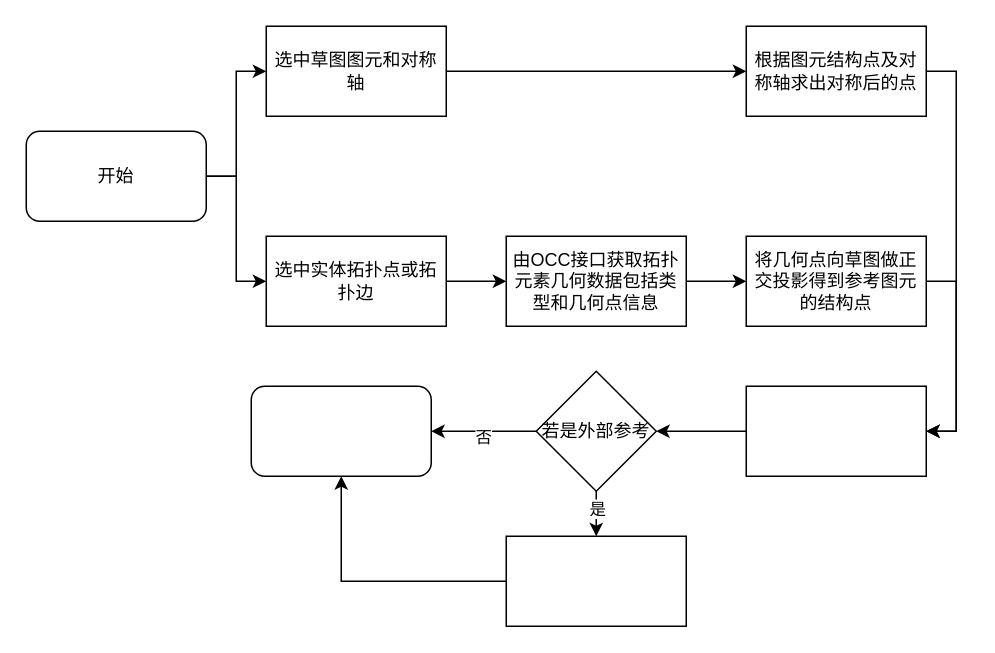
This 995x653 diagram has some shape labels left out. The shapes that lost their labels are listed below. From the top down, each one's centre as x and y in pixels, then its label:
At [340,430]: "结束".
At [835,430]: "根据类型和结构点信息生成图元".
At [595,580]: "设置图元显示为黄色并设置图元为不参与生成草图轮廓".
